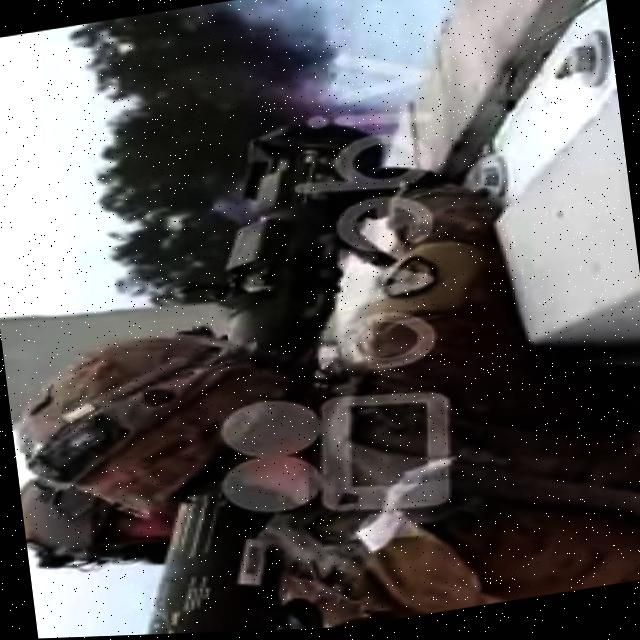rocket: (78, 96, 414, 638)
